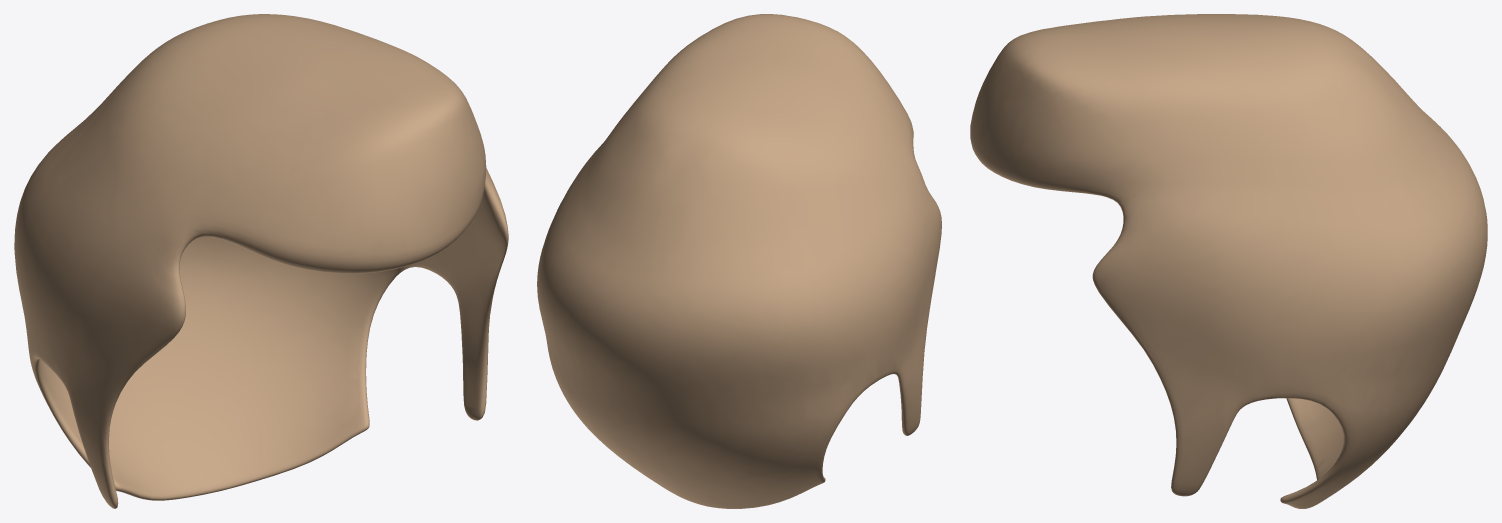
File: hair-1-d5a45502.glb
3 views of the same model, side by side, from view 1: azimuth 30°, elevation 25°; view 2: azimuth 150°, elevation 25°; view 3: azimuth 270°, elevation 25° (orthographic). The views are drawn at different scales.
Visible parts, largest first — view 1: Geo_White_Old_Male_Hair_1.001; view 2: Geo_White_Old_Male_Hair_1.001; view 3: Geo_White_Old_Male_Hair_1.001.
Part boxes in pixels (x1=…): Geo_White_Old_Male_Hair_1.001: x1=14, y1=14, x2=508, y2=508; Geo_White_Old_Male_Hair_1.001: x1=537, y1=14, x2=941, y2=508; Geo_White_Old_Male_Hair_1.001: x1=970, y1=14, x2=1487, y2=508.
Bounding box in the file's own units: 1.42 × 1.6 × 1.62.
